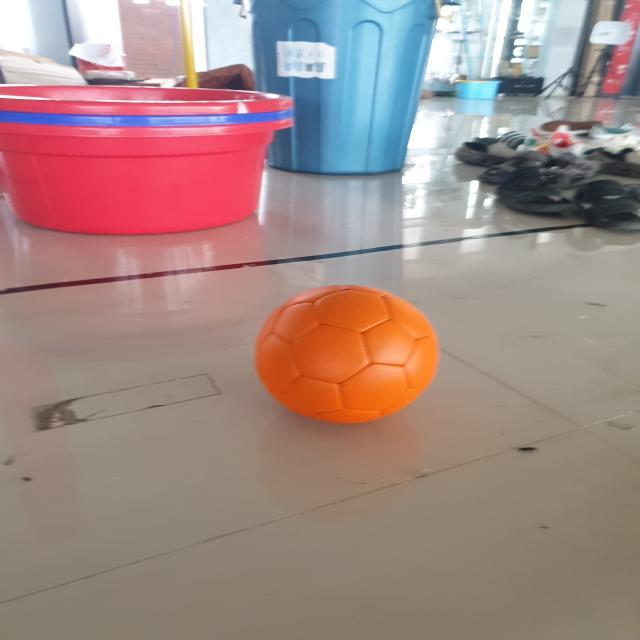bola: (250, 280, 445, 436)
